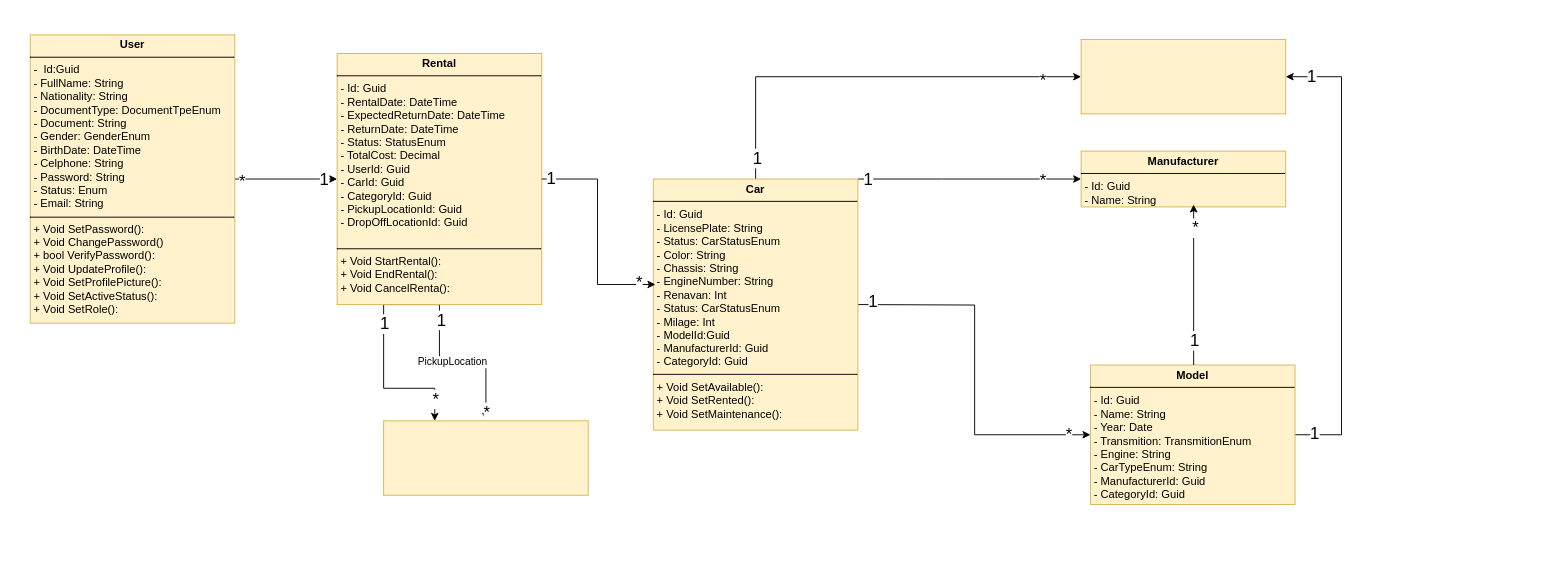
This 1557x571 diagram has some shape labels left out. Here are the shapes that lost their labels. From the top down, the centre of each, then its label:
point (1183, 76): Category - Id: Guid - Name: String - DailyPrice: Decimal
point (485, 457): Location - Id: Guid - Name: String - FullAdress: String
